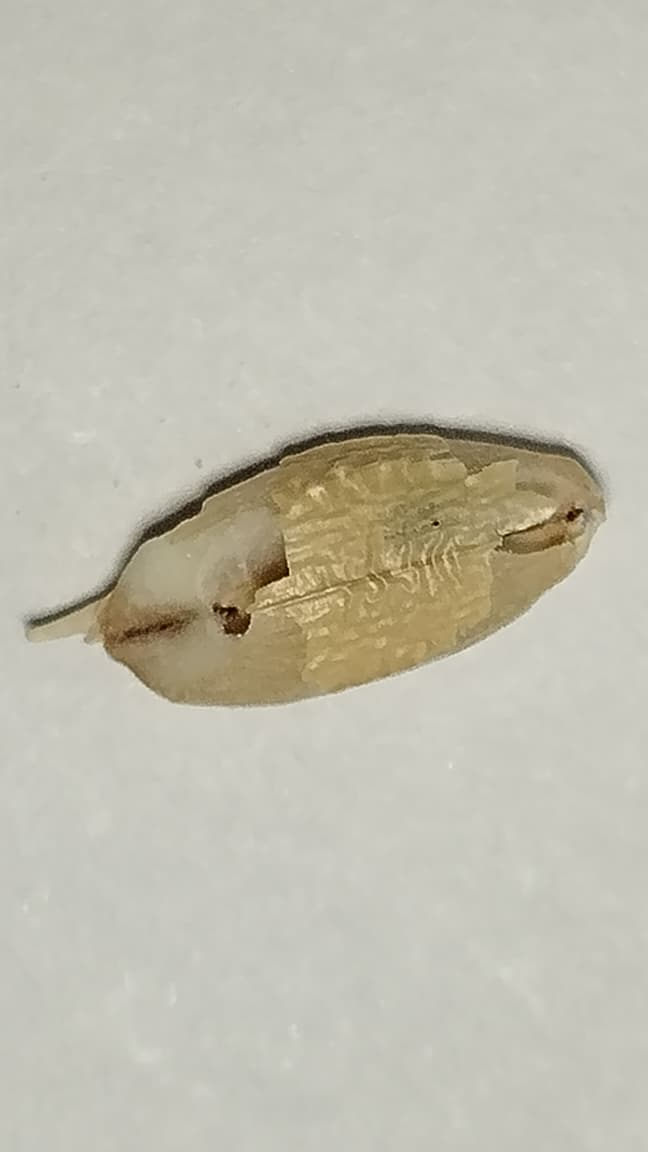healthy-70-60: (33, 432, 603, 701)
insectdamage: (102, 515, 288, 690), (488, 485, 586, 555)
